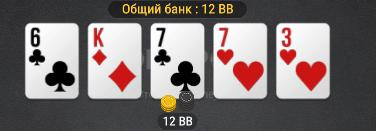3h: (278, 25, 329, 98)
6c: (27, 24, 78, 97)
7c: (152, 25, 204, 98)
7h: (214, 25, 266, 97)
Kd: (89, 24, 140, 96)
